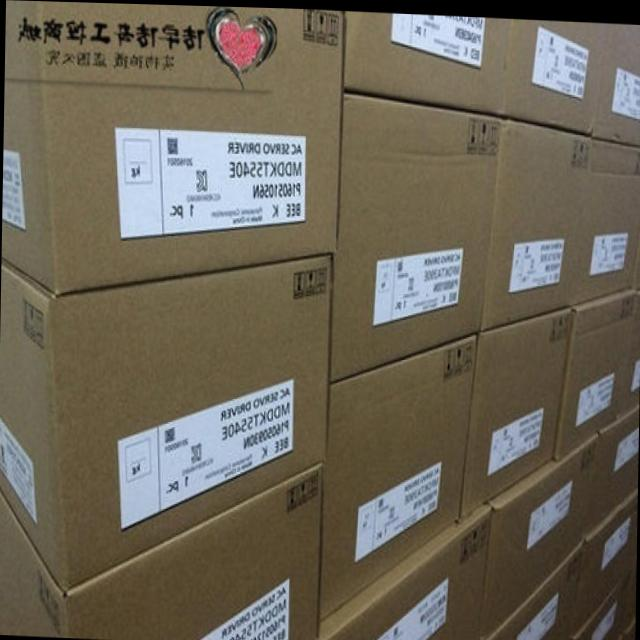box: (0, 253, 330, 590), (5, 0, 344, 292), (0, 465, 321, 640), (328, 90, 500, 382), (316, 330, 476, 623), (483, 110, 640, 329), (459, 299, 572, 519), (482, 429, 596, 638), (316, 503, 489, 640), (342, 8, 511, 114), (555, 285, 633, 454), (499, 15, 607, 128), (480, 535, 588, 640), (568, 483, 636, 633), (585, 401, 639, 531), (591, 21, 640, 141), (565, 572, 636, 640), (619, 286, 640, 414), (622, 627, 634, 640)
